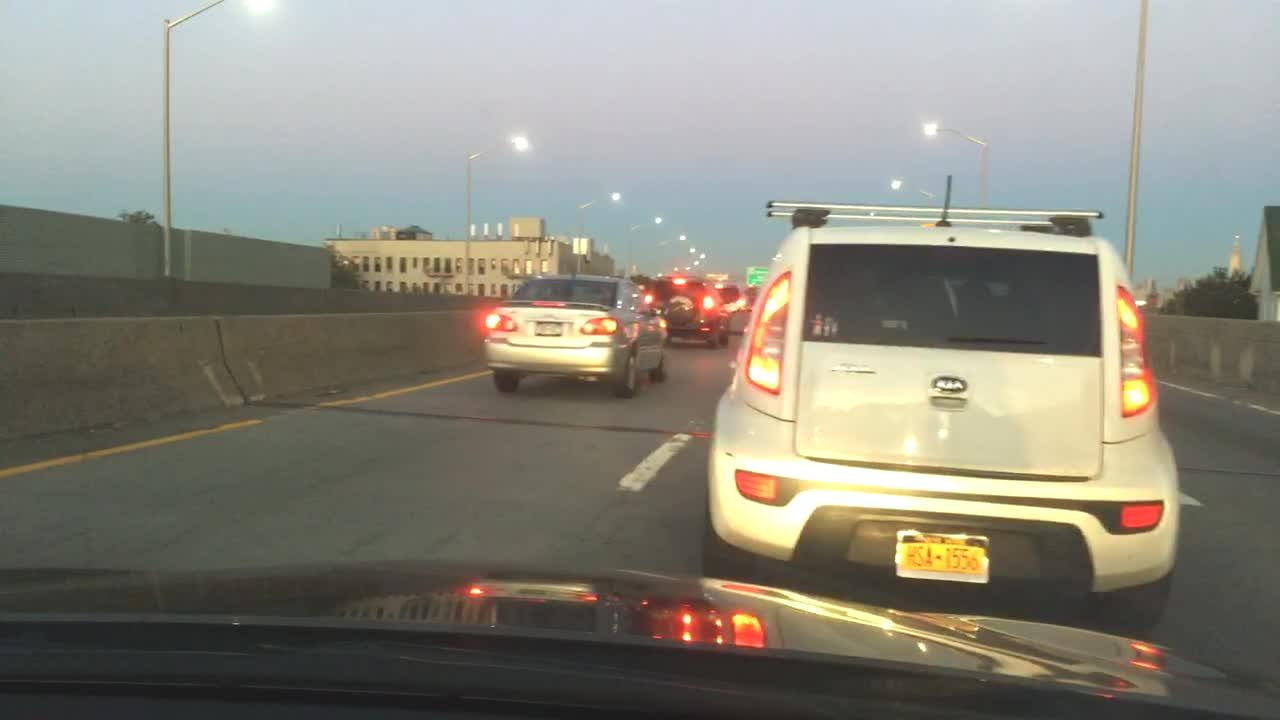kia: (920, 370, 973, 401)
